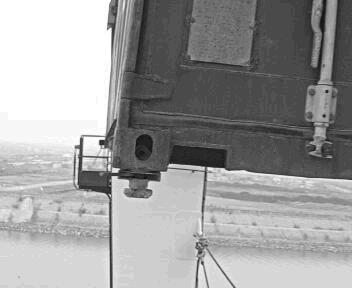twist_lock_1: (111, 166, 165, 202)
